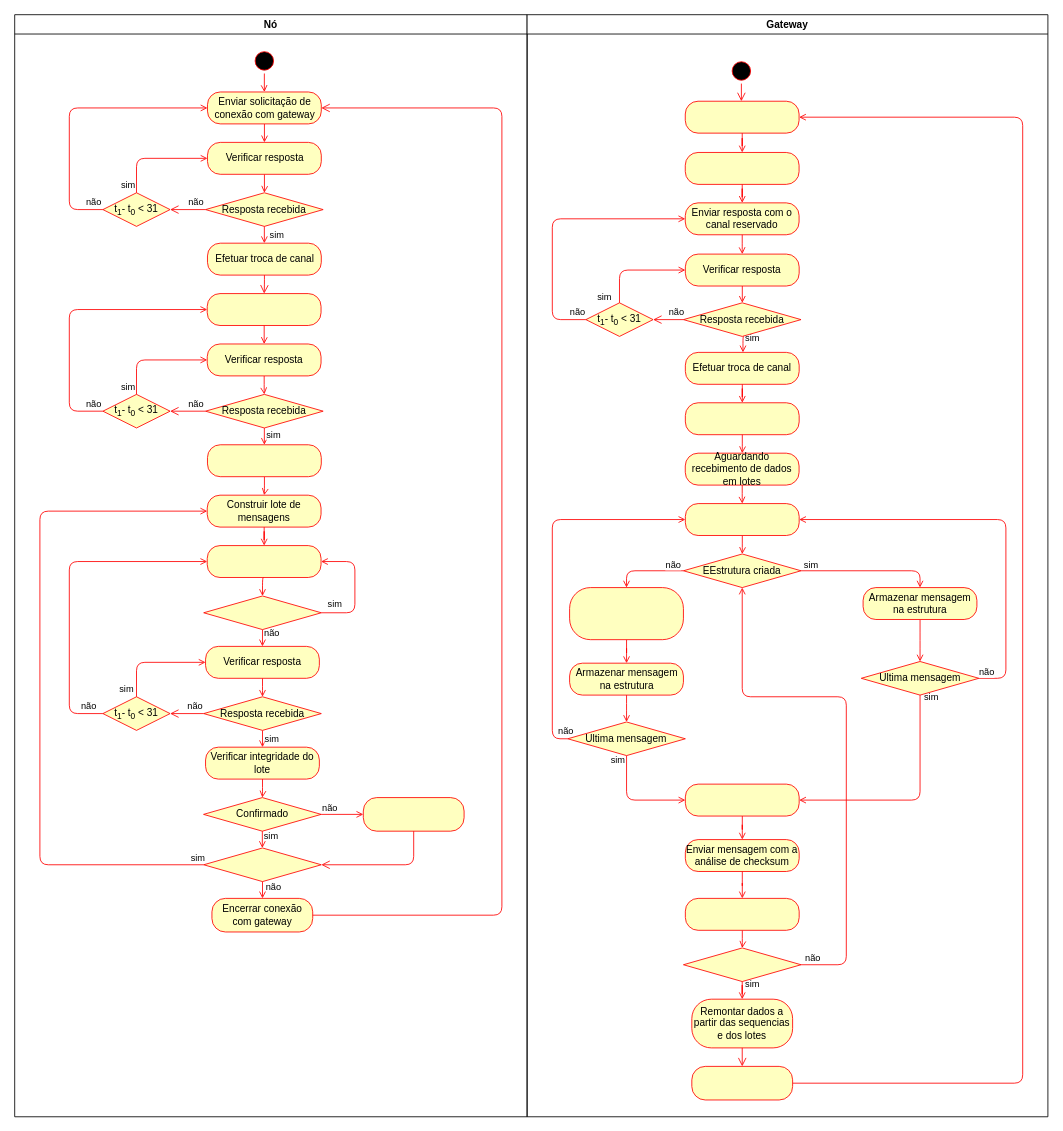
The diagram is 1063 pixels wide and 1131 high, and some of its shapes have lost their labels. Here are the shapes that lost their labels. From the top down, the centre of each, then its label:
the point at 741,116: Aguardando conexao
the point at 741,168: Requisição recebida
the point at 263,309: Enviar confirmação de troca de canal
the point at 742,418: Enviar confirmação de prontidão
the point at 264,460: Iniciar ciclo de captura de dados
the point at 742,519: Recebimento da mensagem N do lote N
the point at 263,561: Enviar mensagem do lote
the point at 262,612: Restam mensagens
the point at 626,613: Criação da estrutura para armazenamento do lote baseado no tamanho deste
the point at 413,814: Alocar mensagem no próximo lote
the point at 742,799: Analisar checksum
the point at 262,864: Restam dados
the point at 742,914: Aguardar próxima mensagem
the point at 742,964: Encerramento
the point at 742,1083: Enviar dados para nuvem
